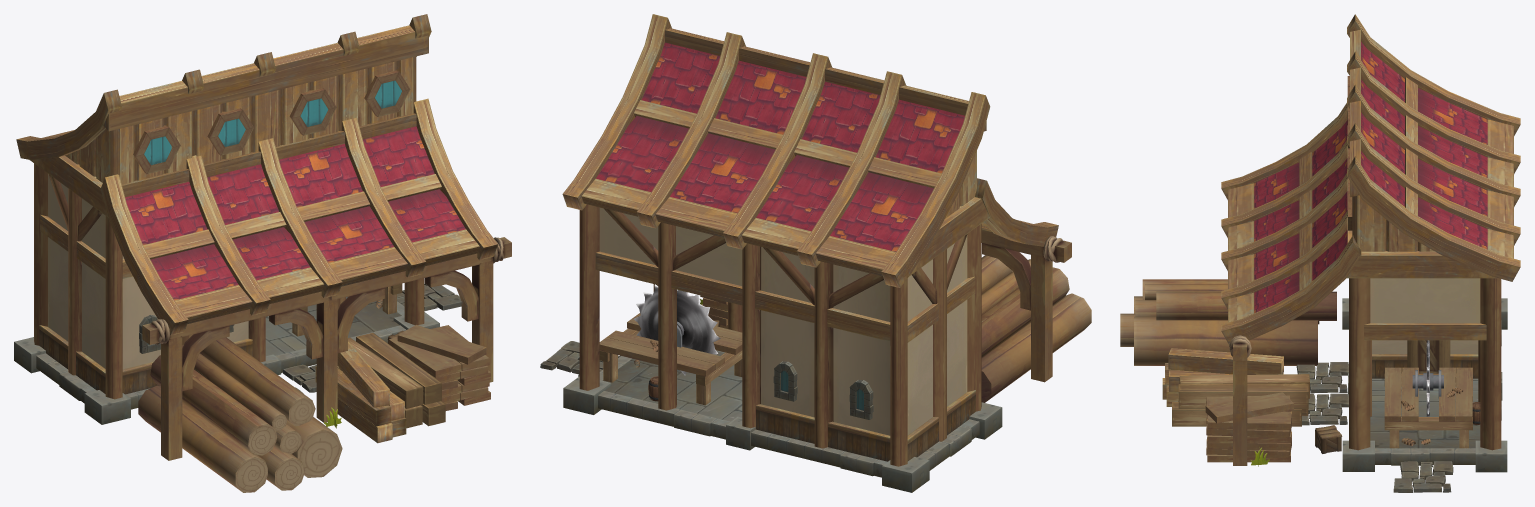
Rendered from sawmil.fbx.
3 renders of one model, left to right at view 1: azimuth 30°, elevation 25°; view 2: azimuth 150°, elevation 25°; view 3: azimuth 270°, elevation 25°, orthographic. The views are drawn at different scales.
Parts seen in each view (by area): view 1: sawmil; view 2: sawmil; view 3: sawmil.
Part boxes in pixels (x1,y1,x2,y2): sawmil: (14, 14, 511, 492); sawmil: (540, 14, 1091, 492); sawmil: (1120, 14, 1520, 492).
Bounding box in the file's own units: 3297 × 2551 × 3015.
